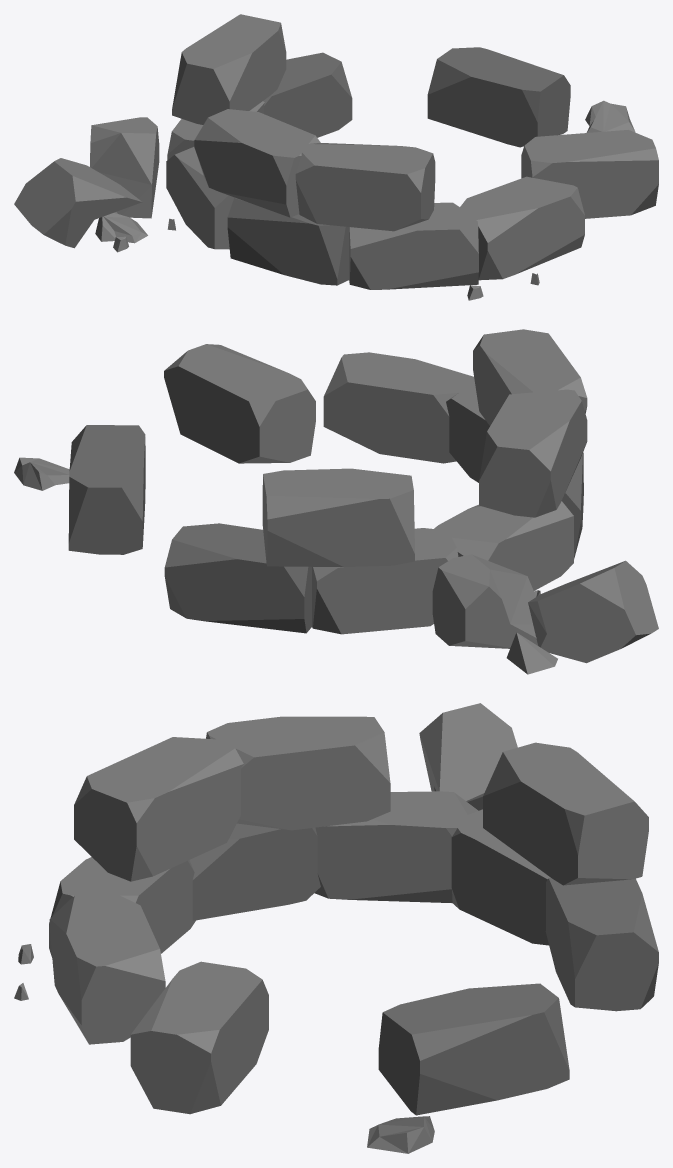
Rendered from well_03.FBX.
3 renders of one model, top to bottom at view 1: azimuth 30°, elevation 25°; view 2: azimuth 150°, elevation 25°; view 3: azimuth 270°, elevation 25°, orthographic. The views are drawn at different scales.
Parts seen in each view (by area): view 1: Well_03; view 2: Well_03; view 3: Well_03.
Part boxes in pixels (bbox=[...]): Well_03: bbox=[14, 14, 658, 300]; Well_03: bbox=[14, 329, 658, 674]; Well_03: bbox=[14, 703, 658, 1153].
Bounding box in the file's own units: 5.03 × 1.01 × 3.65.
